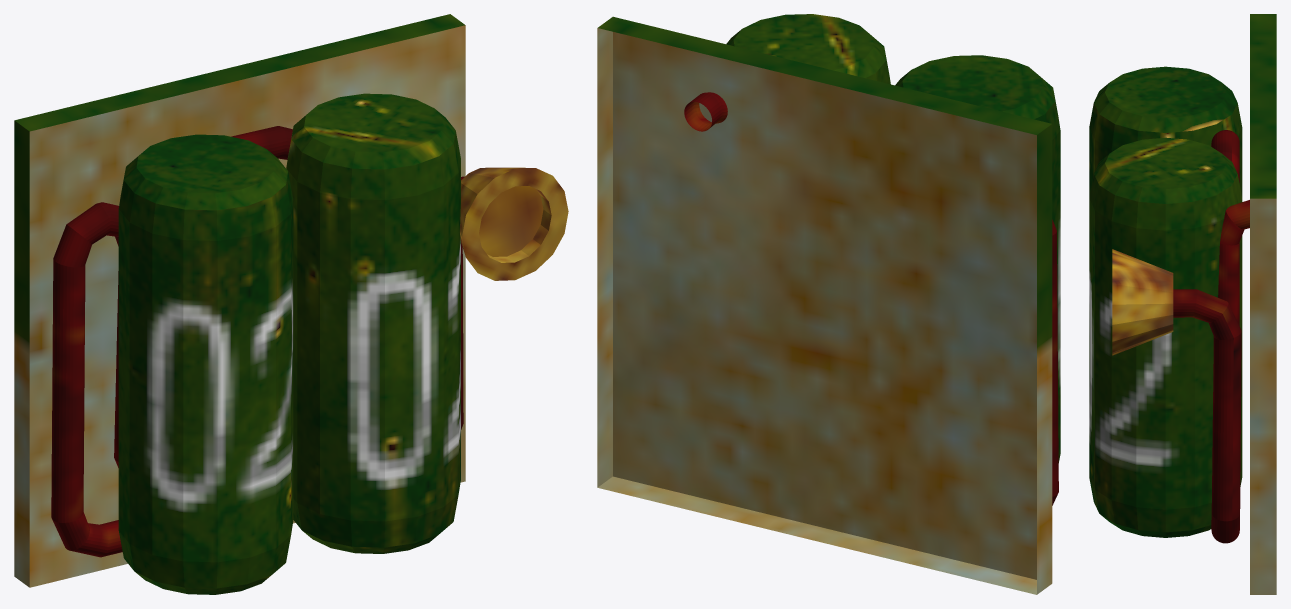
3 views of the same model, side by side, from view 1: azimuth 30°, elevation 25°; view 2: azimuth 150°, elevation 25°; view 3: azimuth 270°, elevation 25° (orthographic). The views are drawn at different scales.
Visible parts, largest first — view 1: Cylinder; view 2: Cylinder; view 3: Cylinder.
Boxes of the visible parts, bbox=[...] form: Cylinder: bbox=[14, 14, 568, 594]; Cylinder: bbox=[597, 14, 1060, 594]; Cylinder: bbox=[1089, 14, 1276, 594].
Bounding box in the file's own units: 62.79 × 59.57 × 25.55.
1 material, 1 textured.
